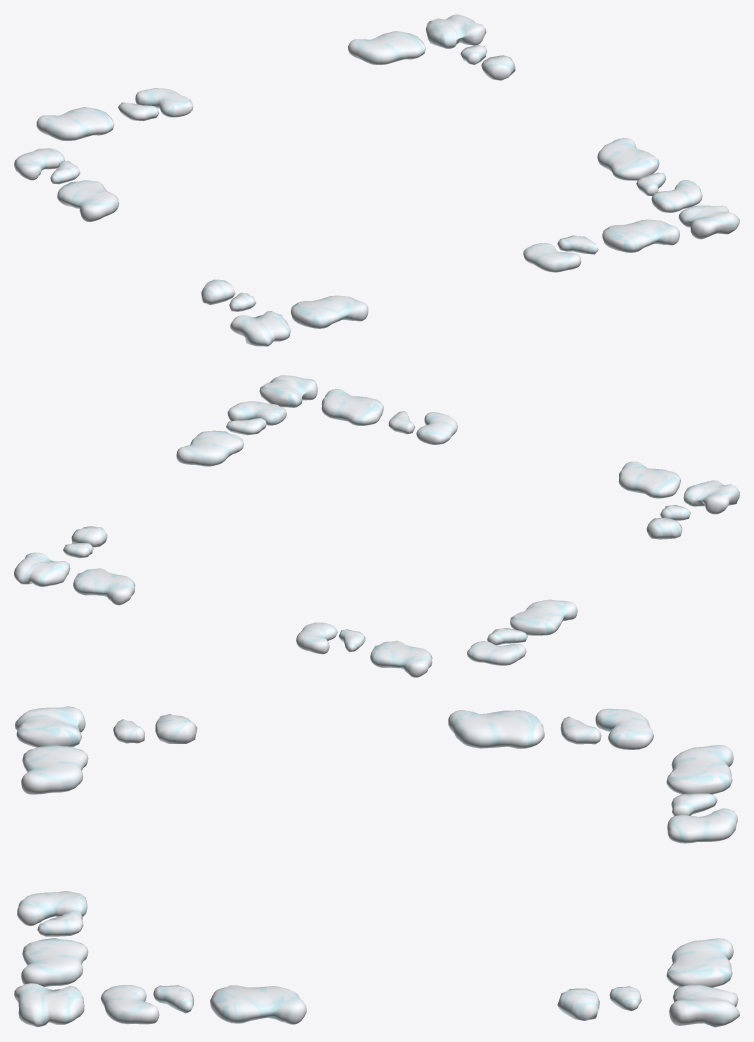
Rendered from S3_InF_WallAccessories_55_002.fbx.
The picture shows the model from 3 angles, top to bottom: view 1: azimuth 30°, elevation 25°; view 2: azimuth 150°, elevation 25°; view 3: azimuth 270°, elevation 25°; orthographic projection. The views are drawn at different scales.
Parts seen in each view (by area): view 1: group266_group258_pCube448; view 2: group266_group258_pCube448; view 3: group266_group258_pCube448.
Part boxes in pixels (x1,y1,x2,y2): group266_group258_pCube448: [14, 14, 739, 346]; group266_group258_pCube448: [14, 375, 739, 677]; group266_group258_pCube448: [14, 706, 739, 1027].
Size of the model in its own units: 6.38 by 0.2219 by 6.37.
